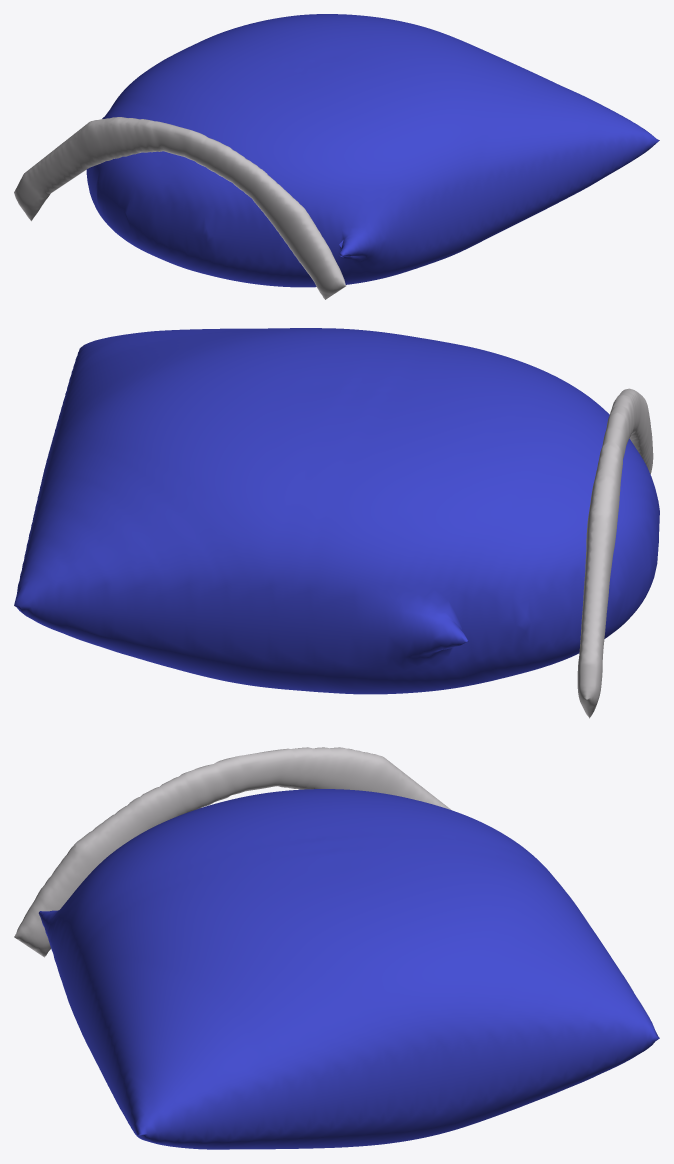
File: ust.fbx
3 renders of one model, top to bottom at view 1: azimuth 30°, elevation 25°; view 2: azimuth 150°, elevation 25°; view 3: azimuth 270°, elevation 25°, orthographic. The views are drawn at different scales.
Parts seen in each view (by area): view 1: root (×2); view 2: root (×2); view 3: root (×2).
Part boxes in pixels (box(x1,y1,x2,y2)): root (×2): box(14, 14, 659, 299); root (×2): box(14, 328, 659, 718); root (×2): box(14, 747, 659, 1149).
Size of the model in its own units: 0.9385 by 0.3179 by 0.8048.
Materials: 2 (1 with a texture image).
